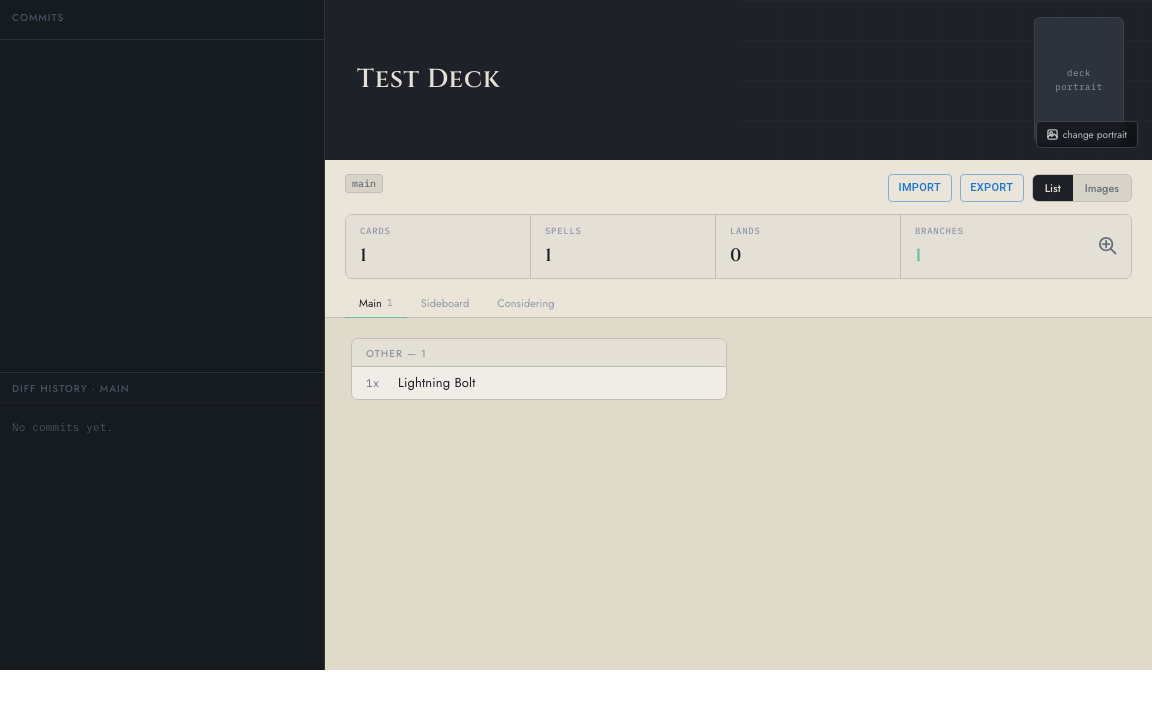
Test: Decklist — art selection › clicking "Select printing" from the card menu opens the art picker dialog
Expected: the text "Lightning Bolt" is shown, [398,373,476,392]
Hover over the element showing "1x Lightning Bolt" at (539, 383), box [352,367,726,398]
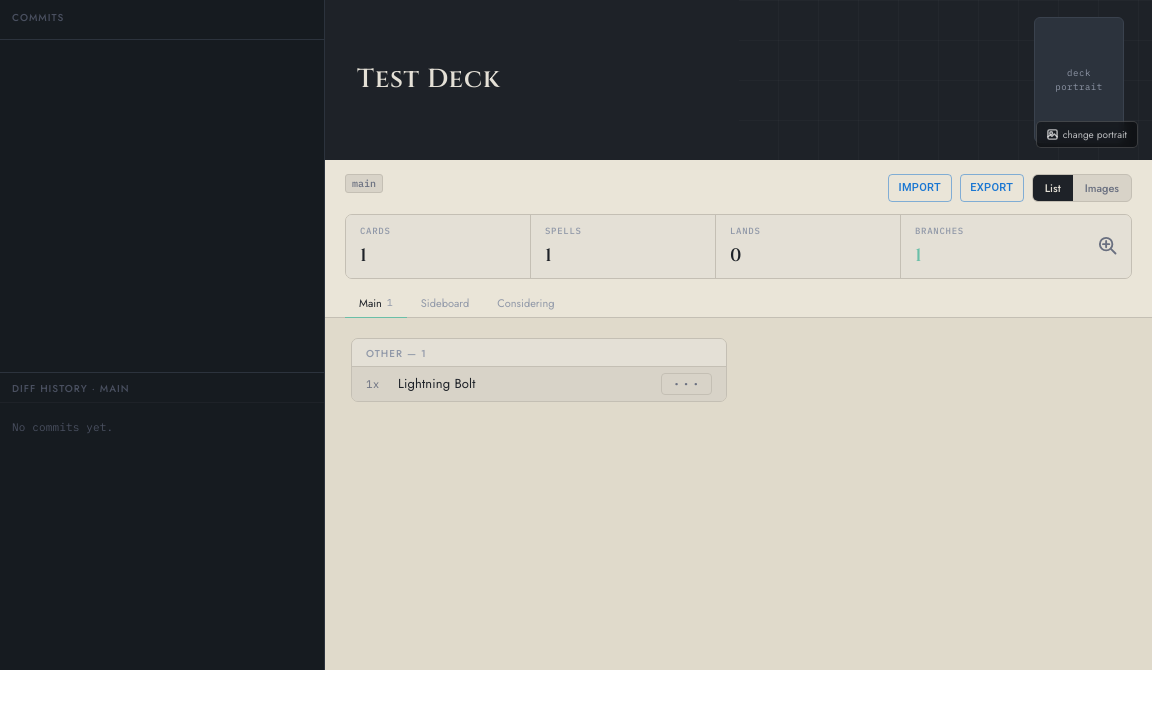
Click the button "···" at (686, 384), box [661,373,712,395]
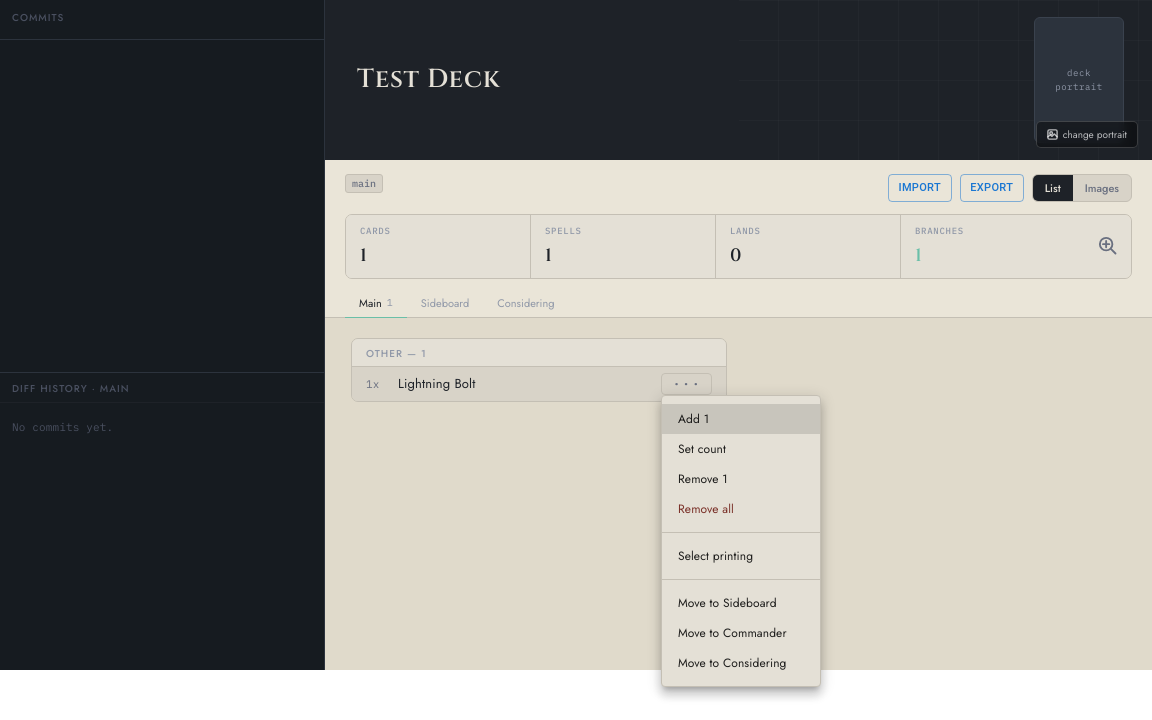
Click the menu item "Select printing" at (716, 556), box [678,547,753,565]
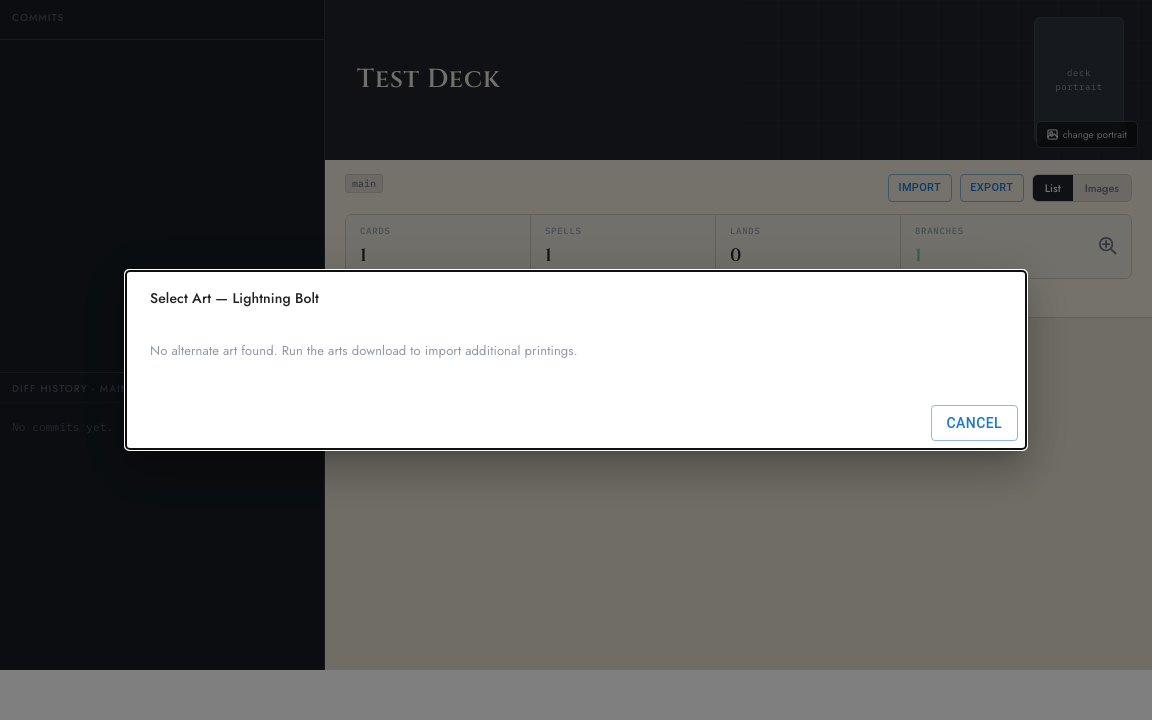
Result: the dialog is shown at [126,271,1026,449]
